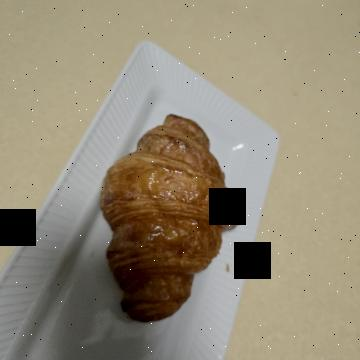croissant: (108, 116, 344, 277)
